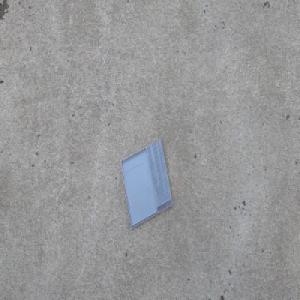PlasticPart: (119, 138, 173, 230)
